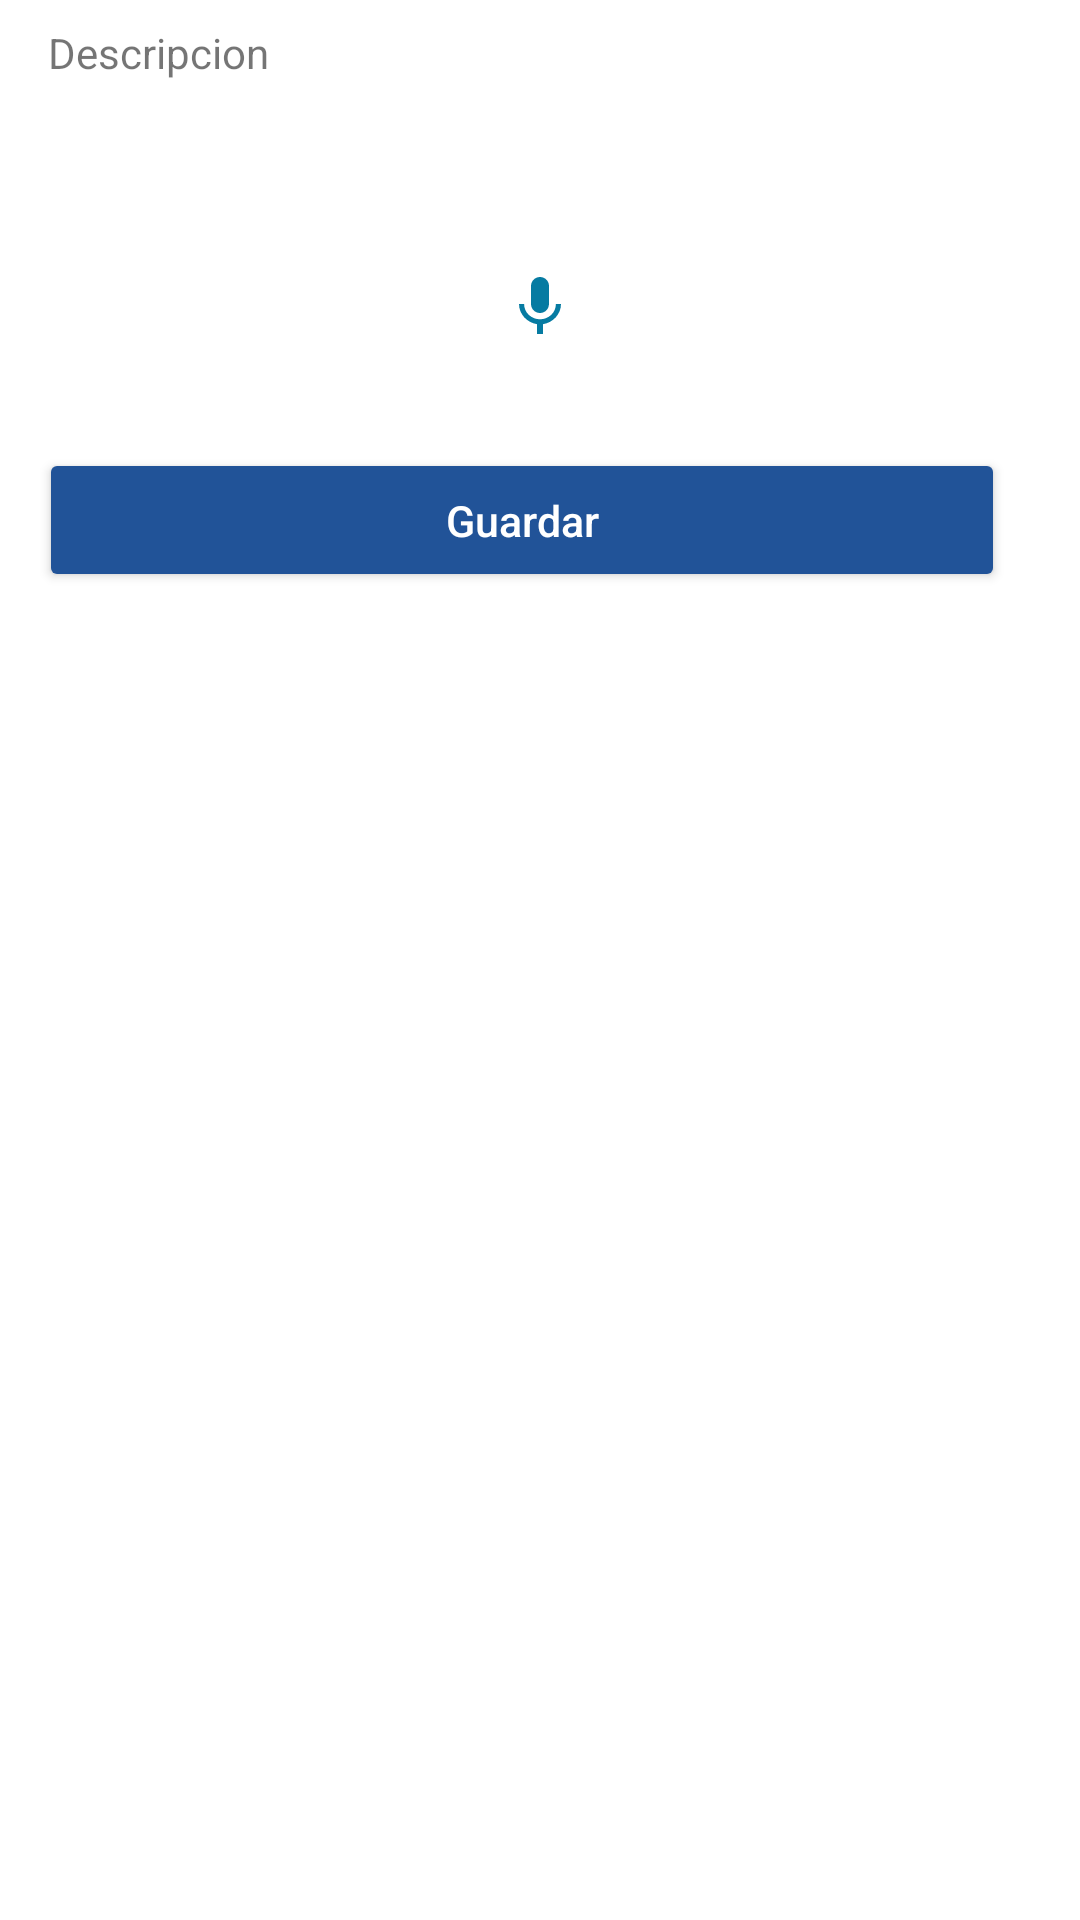

Where icons sit on this 1080×1920 app screen, as (x1, y1, x2, y2):
grabador: (519, 277, 561, 334)
